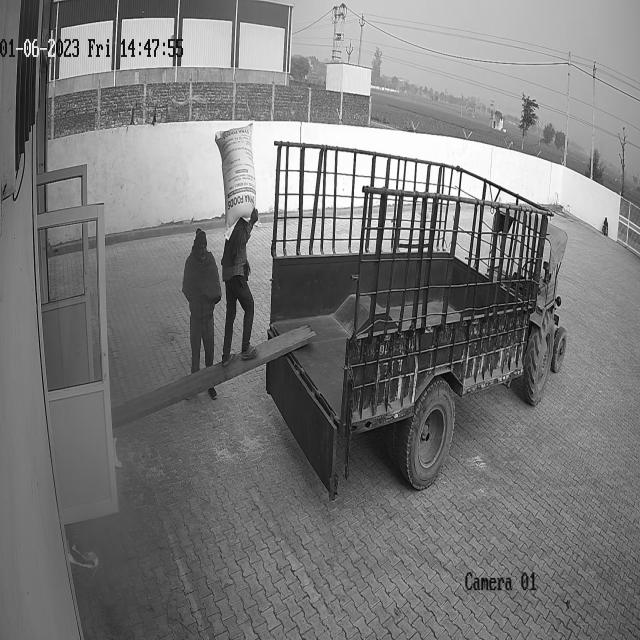sack: (214, 122, 257, 238)
